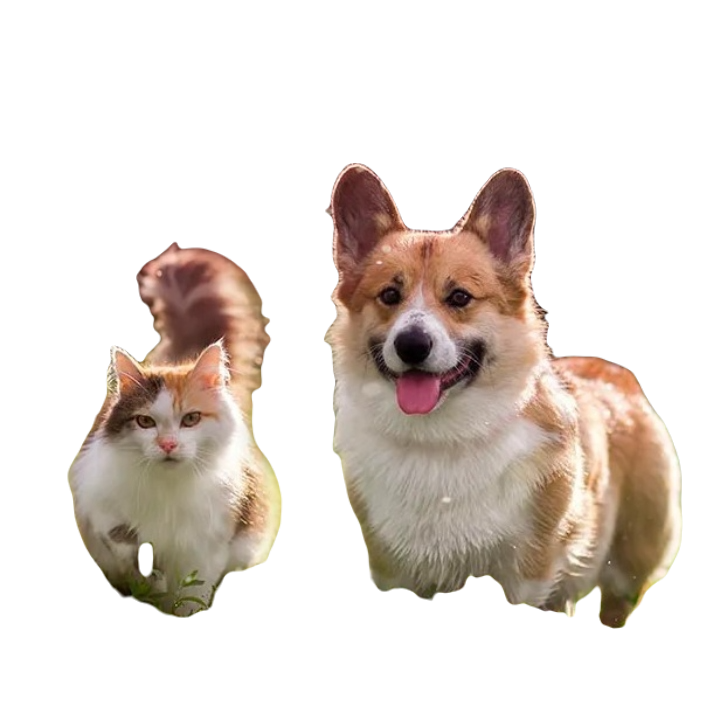Dog: (319, 165, 686, 633)
